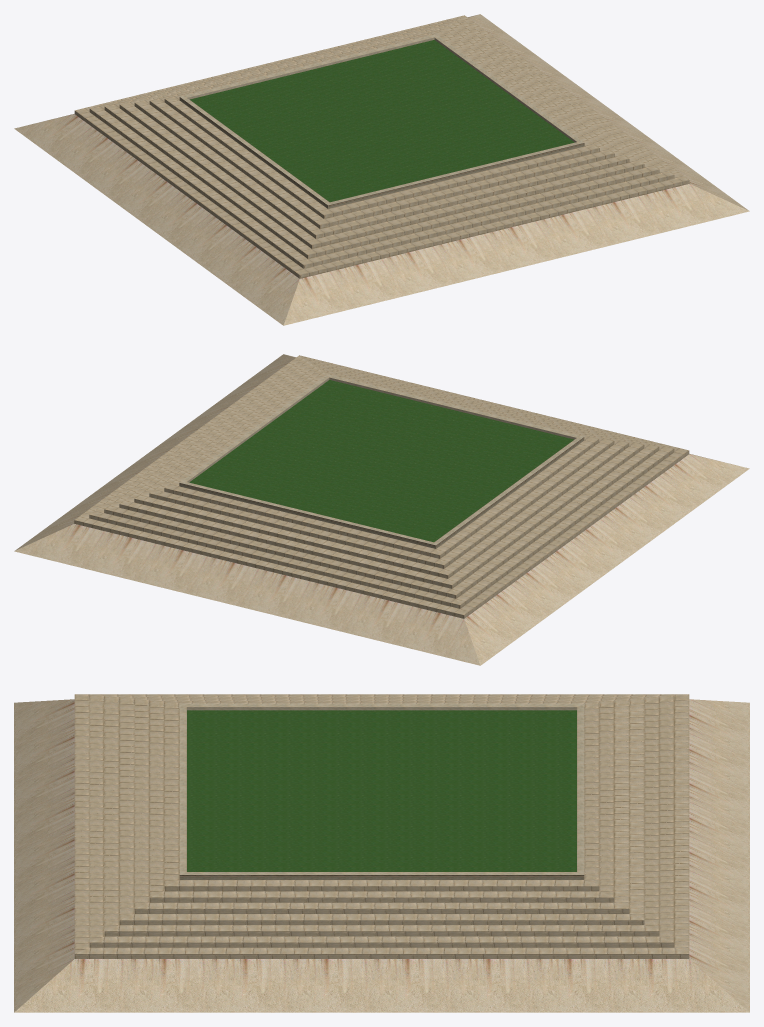
File: ply_nboo_garden_lrg_s01_l0.fbx
The picture shows the model from 3 angles, top to bottom: view 1: azimuth 30°, elevation 25°; view 2: azimuth 150°, elevation 25°; view 3: azimuth 270°, elevation 25°; orthographic projection. The views are drawn at different scales.
Visible parts, largest first — view 1: mesh_node; view 2: mesh_node; view 3: mesh_node.
Boxes of the visible parts, left/top/right/bottom form: mesh_node: left=14, top=14, right=749, bottom=325; mesh_node: left=14, top=354, right=749, bottom=665; mesh_node: left=14, top=694, right=749, bottom=1012.
Size of the model in its own units: 49.05 by 5.07 by 49.07.
